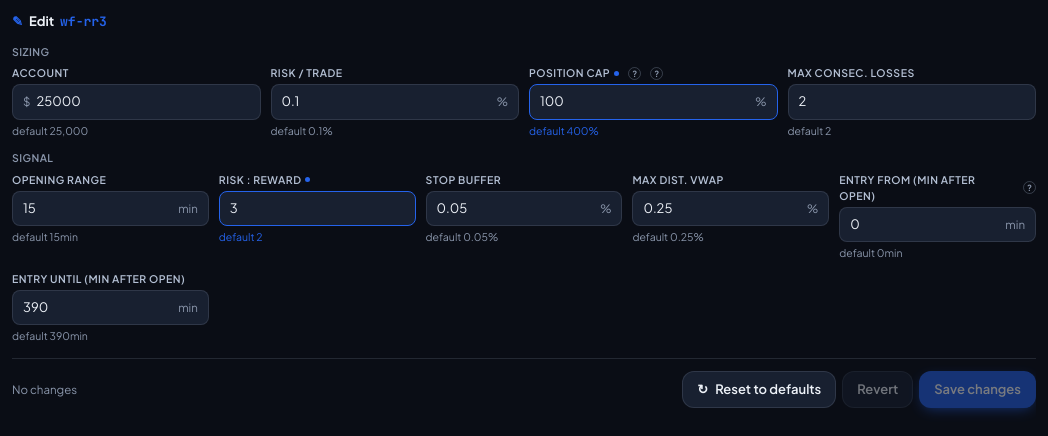
Test: ConfigEditor › Reset to defaults sets all knobs to defaults (still needs Save)
Click the button "↻ Reset to defaults" at x=759, y=390, box [682,371,836,408]
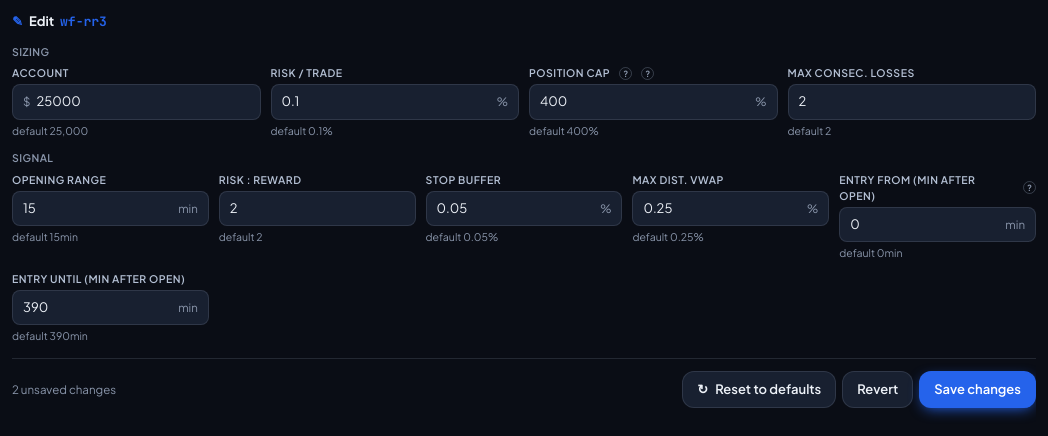
Check: the number field labelled "Position cap" holds "400", box [540,92,749,112]
Check: the number field labelled "Risk : reward" holds "2", box [230,199,405,218]
Check: the text "2 unsaved changes" is shown, box [12,381,116,398]
